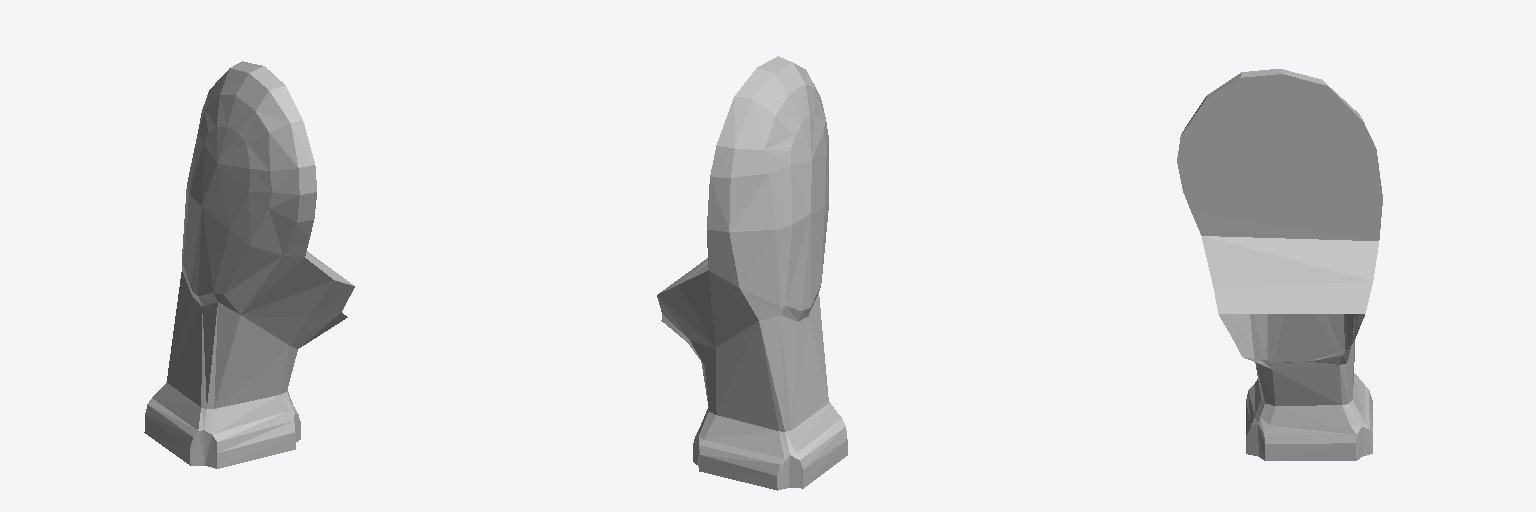
Rendered from DewbackFRightLeg.obj.
3 renders of one model, left to right at view 1: azimuth 30°, elevation 25°; view 2: azimuth 150°, elevation 25°; view 3: azimuth 270°, elevation 25°, orthographic.
Visible parts, largest first — view 1: Mesh_0106_Mesh_0106Mesh; view 2: Mesh_0106_Mesh_0106Mesh; view 3: Mesh_0106_Mesh_0106Mesh.
Part boxes in pixels (x1,y1,x2,y2): Mesh_0106_Mesh_0106Mesh: (144,61,354,468); Mesh_0106_Mesh_0106Mesh: (657,56,847,490); Mesh_0106_Mesh_0106Mesh: (1177,69,1382,460).
Bounding box in the file's own units: 0.1962 × 0.4762 × 0.2383.